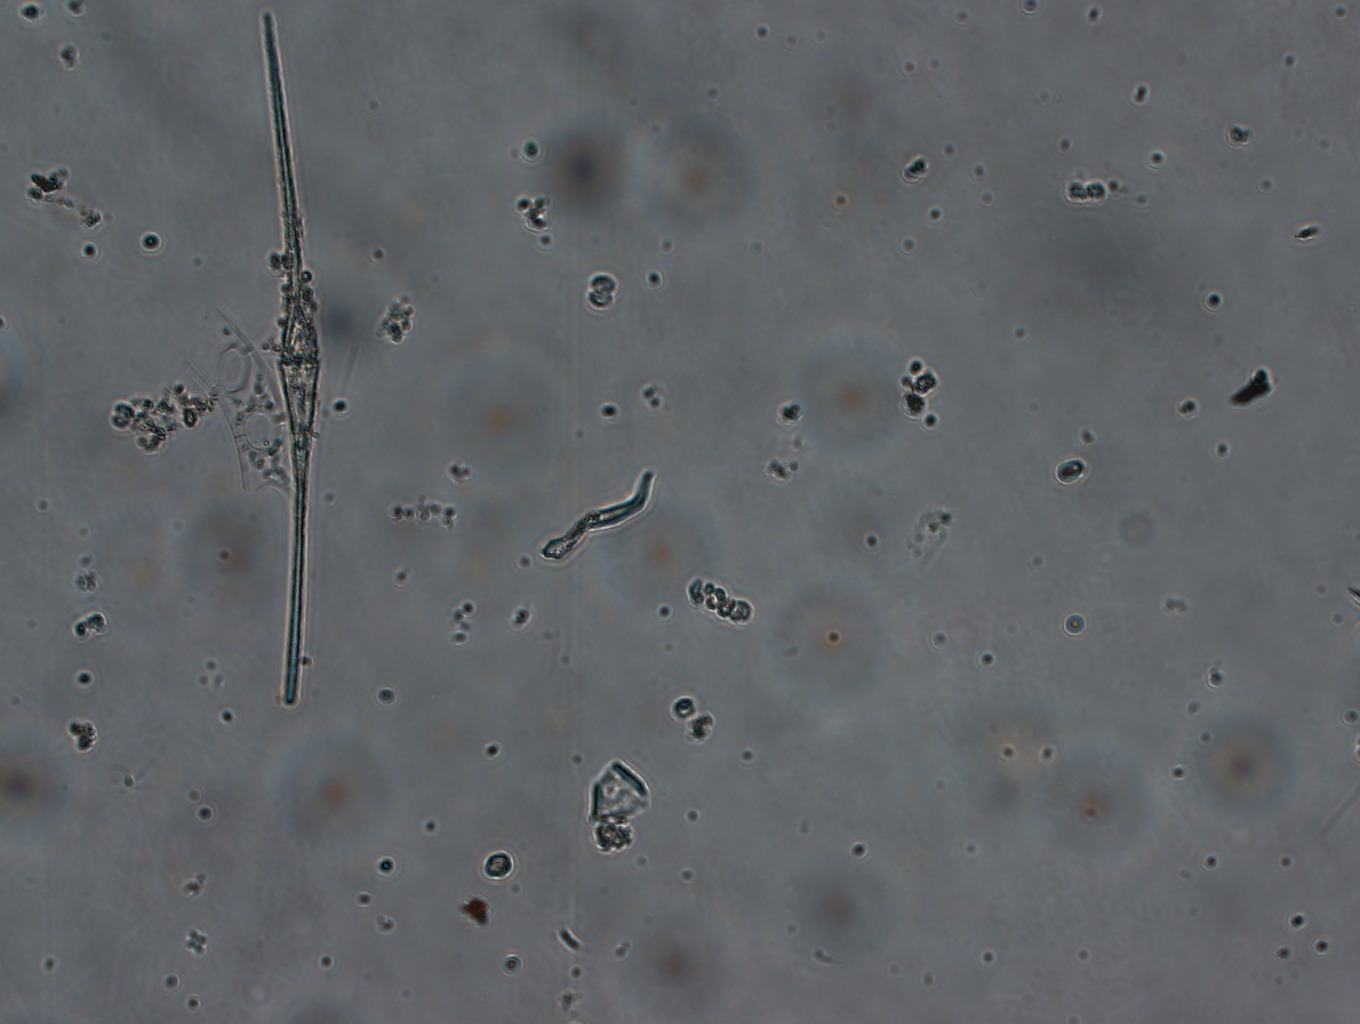ceratium fusus: (247, 11, 339, 708)
eucampia: (177, 295, 291, 507)
